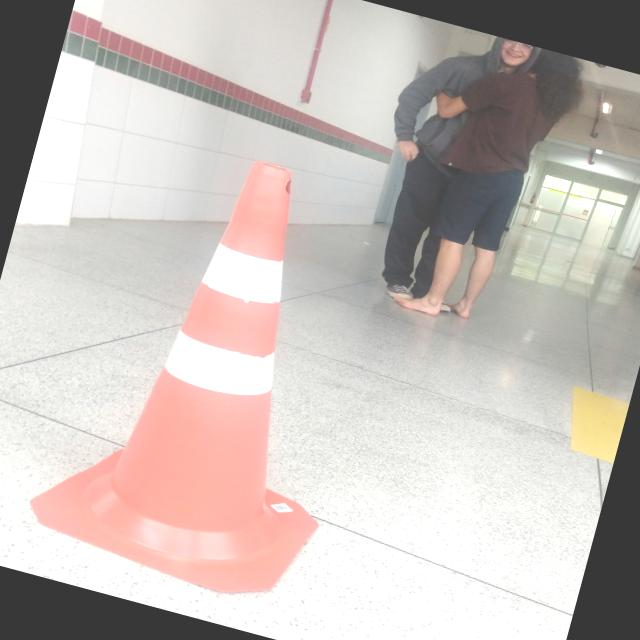cone: (57, 130, 372, 614)
